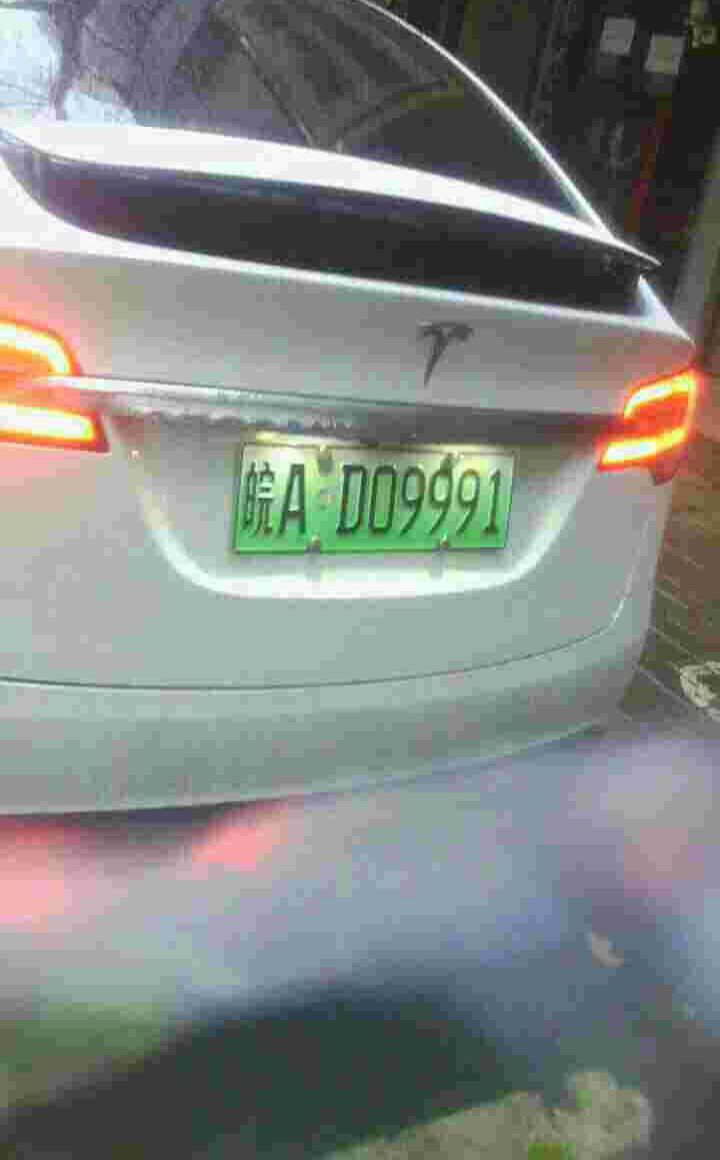car_id: (231, 439, 516, 551)
